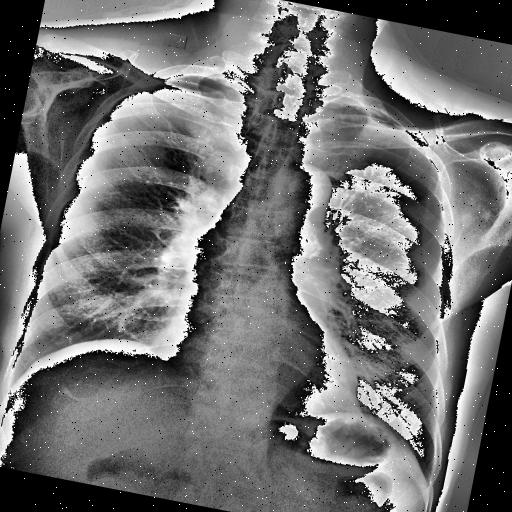0- Aortic enlargement: (263, 158, 337, 239), (260, 156, 338, 216), (278, 159, 337, 213)
11- Pleural thickening: (344, 96, 398, 124)
8- Nodule-Mass: (288, 215, 329, 262)
9- Other lesion: (288, 215, 329, 262)
